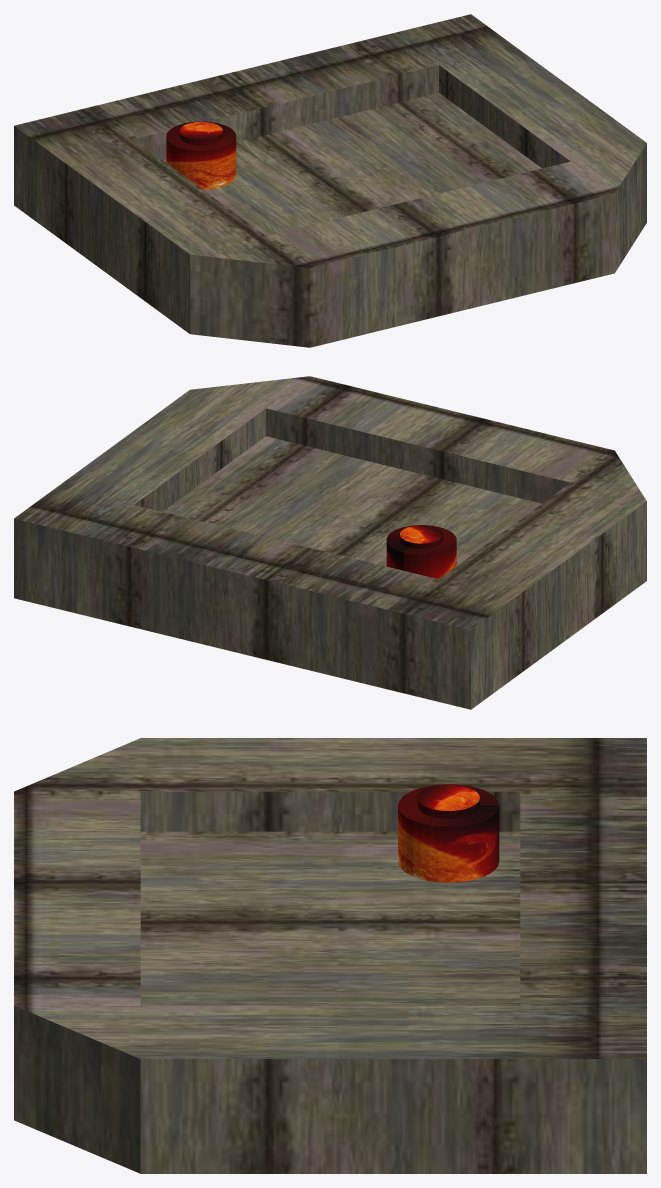
The model's file is Capacitor2.gltf.
3 views of the same model, one above another, from view 1: azimuth 30°, elevation 25°; view 2: azimuth 150°, elevation 25°; view 3: azimuth 270°, elevation 25° (orthographic). The views are drawn at different scales.
Visible parts, largest first — view 1: Box, Cell1; view 2: Box, Cell1; view 3: Box, Cell1.
Boxes of the visible parts, box(x1,y1,x2,y2) form: Box: box(14, 14, 646, 347); Cell1: box(166, 121, 236, 189); Box: box(14, 376, 646, 709); Cell1: box(386, 525, 456, 579); Box: box(14, 738, 646, 1173); Cell1: box(398, 784, 499, 882).
Bounding box in the file's own units: 3 × 0.6022 × 2.5.
2 materials, 2 textured.
